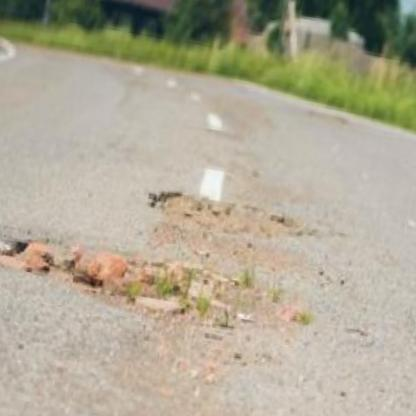pothole: (0, 221, 314, 341), (145, 184, 320, 252)
